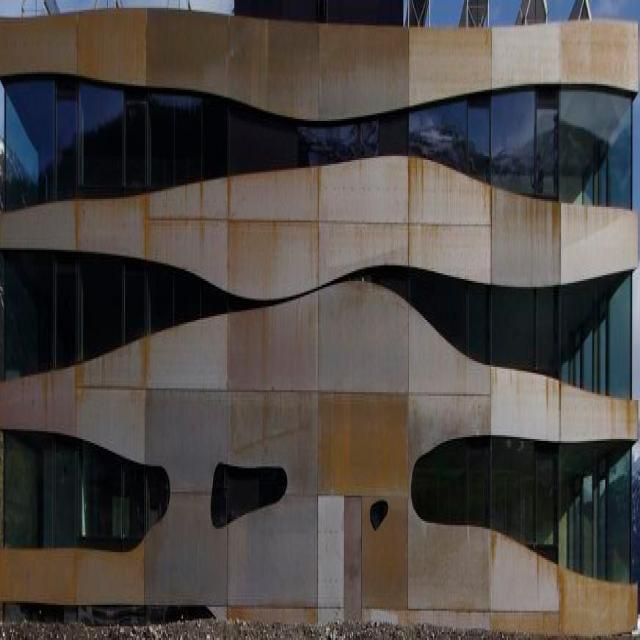window: (4, 74, 634, 215), (344, 262, 632, 398), (3, 248, 266, 381), (414, 434, 635, 588), (3, 426, 173, 556), (209, 460, 288, 531)
